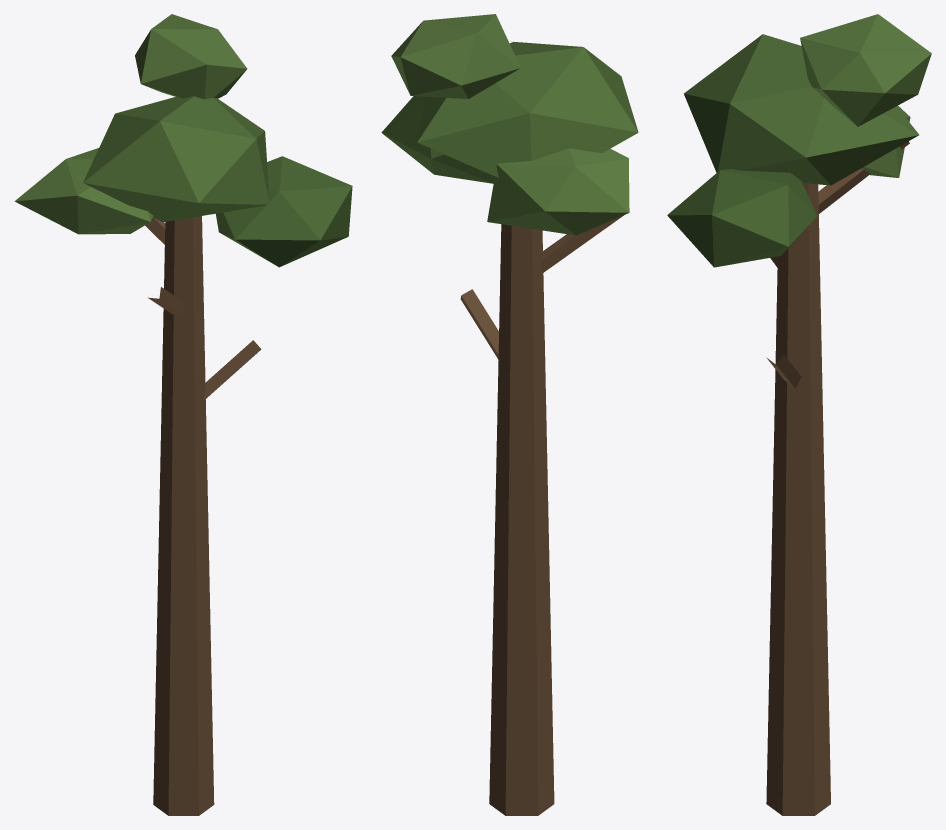
File: tree-slash-pine.glb
3 views of the same model, side by side, from view 1: azimuth 30°, elevation 25°; view 2: azimuth 150°, elevation 25°; view 3: azimuth 270°, elevation 25° (orthographic). The views are drawn at different scales.
Parts seen in each view (by area): view 1: tree; view 2: tree; view 3: tree.
Boxes of the visible parts, bbox=[...] form: tree: bbox=[14, 14, 352, 815]; tree: bbox=[381, 14, 638, 815]; tree: bbox=[667, 14, 931, 815].
Size of the model in its own units: 0.1439 by 0.3789 by 0.1147.
